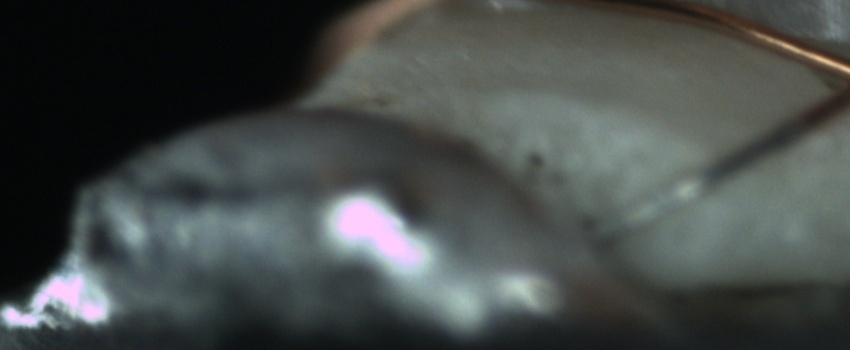CL: (806, 45, 850, 124)
